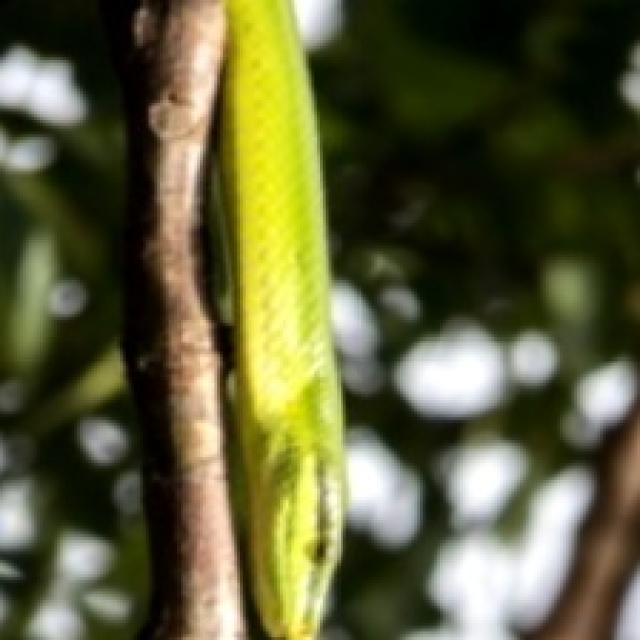red-tailed green ratsnake: (220, 0, 340, 637)
